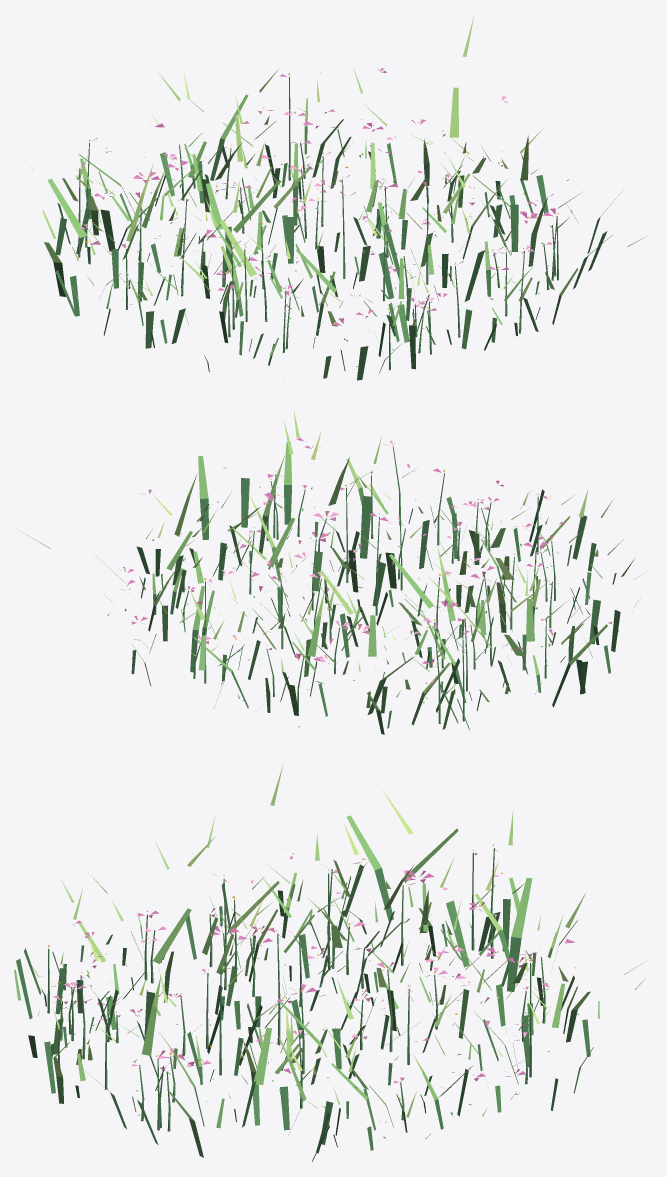
File: Meadow_01_Pink_LOD1.glb
3 views of the same model, one above another, from view 1: azimuth 30°, elevation 25°; view 2: azimuth 150°, elevation 25°; view 3: azimuth 270°, elevation 25° (orthographic). The views are drawn at different scales.
Visible parts, largest first — view 1: Meadow_01_Pink; view 2: Meadow_01_Pink; view 3: Meadow_01_Pink.
Part boxes in pixels (x1,y1,x2,y2): Meadow_01_Pink: (24,17,650,380); Meadow_01_Pink: (19,410,642,734); Meadow_01_Pink: (14,764,646,1161).
Bounding box in the file's own units: 2.91 × 0.6795 × 2.83.
